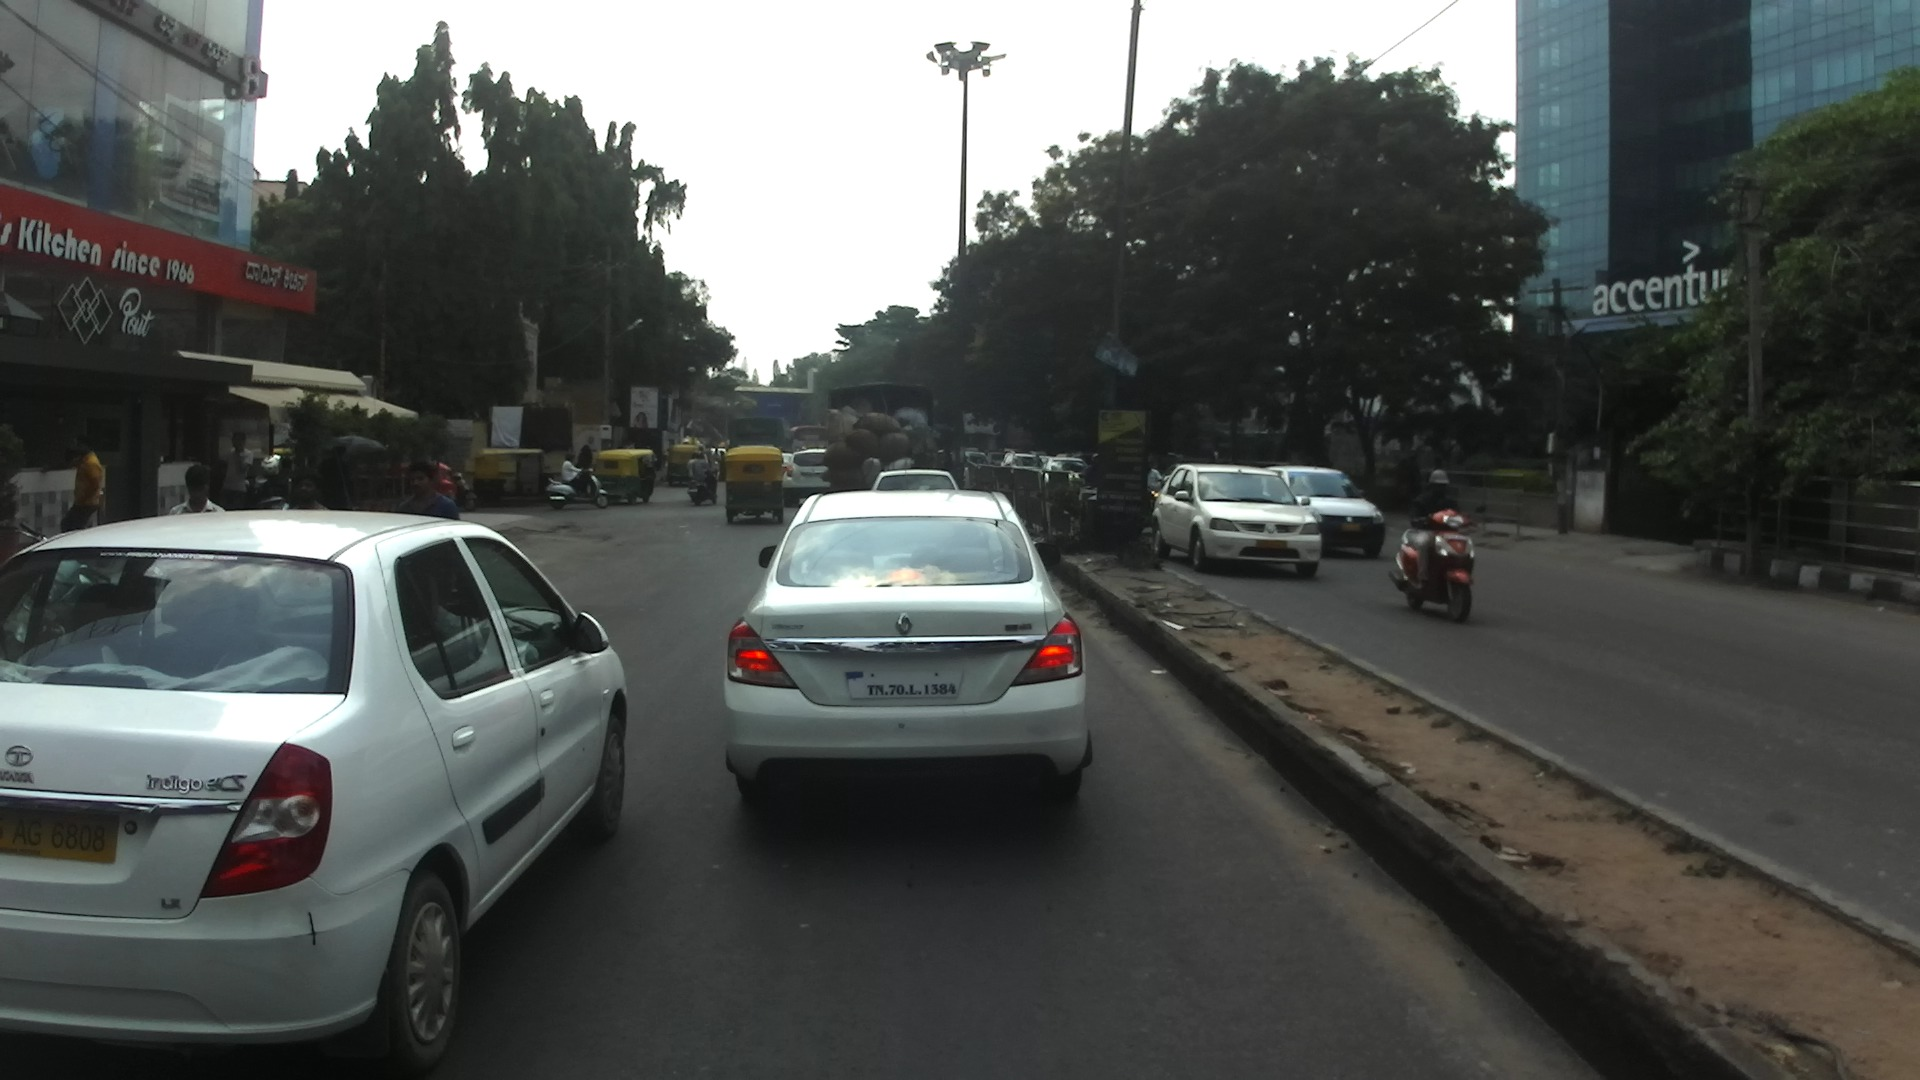autorickshaw: (721, 445, 785, 523), (467, 448, 546, 505), (591, 446, 659, 508), (667, 445, 701, 491)
bus: (727, 417, 792, 461), (788, 425, 831, 461)
car: (1, 505, 632, 1080), (724, 488, 1096, 819), (1151, 461, 1329, 576), (1258, 465, 1391, 562), (782, 446, 846, 511), (871, 467, 961, 509), (394, 461, 456, 512), (1040, 454, 1092, 487), (999, 447, 1044, 483), (961, 446, 990, 485), (706, 450, 730, 481), (986, 452, 1008, 478), (777, 450, 798, 470)
motorcycle: (1386, 501, 1492, 625), (543, 476, 611, 511), (2, 522, 47, 575), (250, 453, 289, 514), (684, 468, 720, 509), (445, 473, 481, 512), (1077, 478, 1098, 507), (1146, 483, 1160, 511)
person: (394, 457, 460, 526), (59, 433, 102, 539), (216, 427, 257, 518), (165, 461, 224, 522), (316, 447, 355, 515), (281, 474, 327, 521), (270, 455, 297, 500), (574, 444, 594, 473), (712, 449, 722, 479), (717, 450, 725, 482)
rider: (1406, 467, 1465, 604), (557, 450, 587, 499), (688, 451, 710, 503), (1140, 458, 1166, 499), (1081, 453, 1106, 489), (696, 454, 711, 489)
truck: (825, 378, 941, 504)
